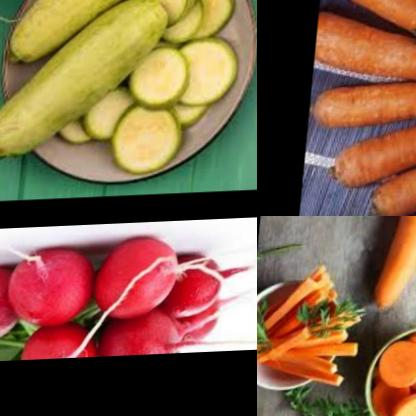carrot: (257, 278, 364, 395), (315, 8, 416, 87), (327, 101, 416, 185), (311, 74, 416, 136), (317, 0, 416, 55), (376, 216, 416, 310), (373, 129, 416, 216), (391, 347, 416, 416)
rediska: (94, 239, 187, 326), (9, 249, 101, 333), (97, 308, 205, 360), (166, 255, 238, 325), (24, 325, 112, 362), (177, 302, 239, 348), (0, 265, 28, 344)
vegetable marrow: (0, 0, 173, 168), (113, 0, 241, 177), (6, 0, 184, 71)
